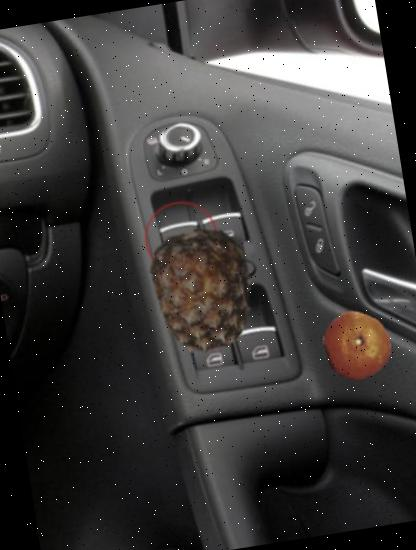Clementine: (315, 304, 397, 386)
Pineapple: (129, 217, 277, 364)
